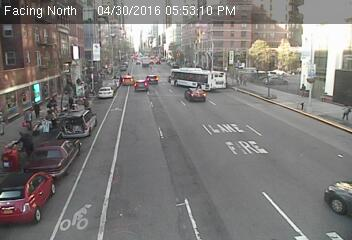neg: (175, 70, 190, 90), (219, 70, 234, 90), (27, 44, 41, 62), (174, 10, 187, 27), (96, 109, 108, 124), (196, 134, 208, 149), (75, 39, 86, 55), (274, 67, 285, 82), (124, 103, 135, 118), (86, 83, 96, 97), (173, 193, 183, 207), (323, 172, 333, 186), (243, 130, 253, 144), (261, 88, 271, 101), (80, 199, 90, 212), (162, 96, 172, 108), (148, 74, 156, 85), (55, 155, 63, 166), (123, 29, 131, 39), (193, 44, 200, 54), (249, 8, 256, 17), (142, 63, 148, 70)
pos: (15, 129, 31, 151), (339, 100, 351, 122), (20, 107, 33, 125), (29, 100, 42, 118), (47, 93, 60, 110), (64, 93, 74, 107), (298, 81, 307, 93), (238, 76, 246, 87), (241, 77, 249, 87), (126, 71, 130, 76)
